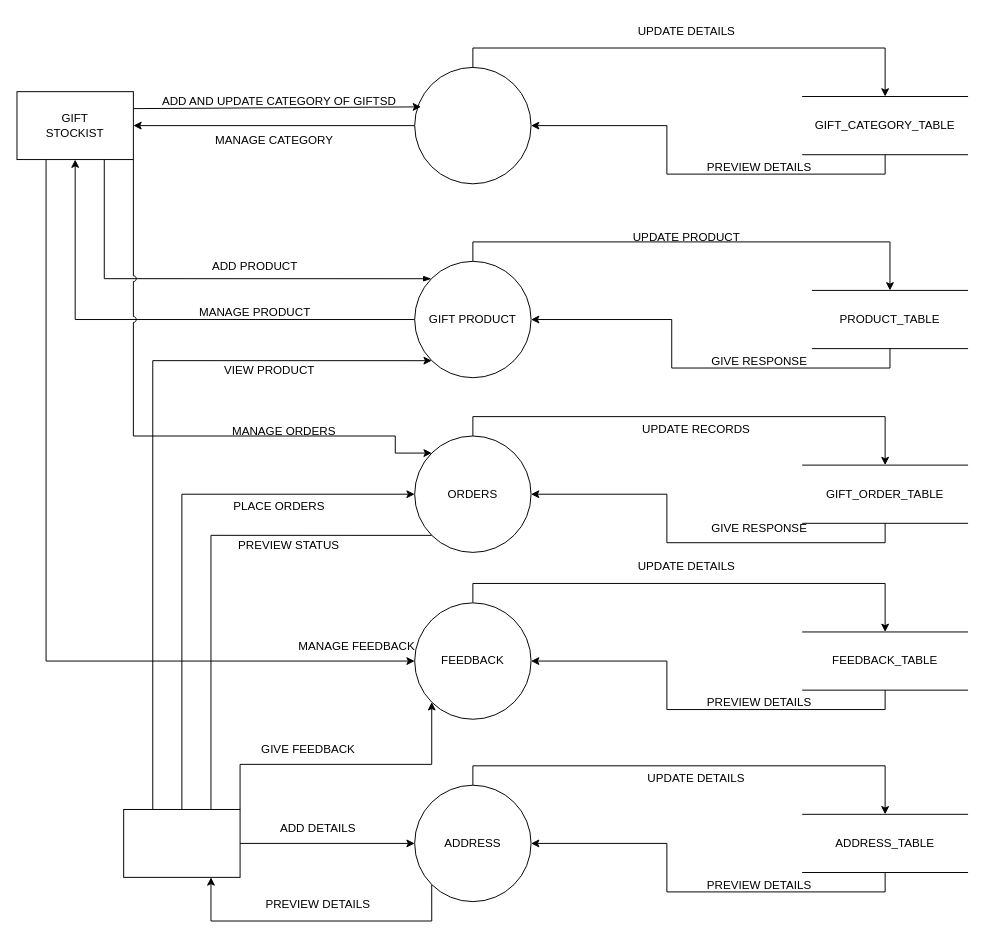
Some shapes in this 985 by 946 pixel diagram are drawn without their labels. Here are the shapes that lost their labels. From the top down, the centre of each, then its label:
At (x=472, y=125): "GIFT CATEGORY".
At (x=181, y=842): "USER".
